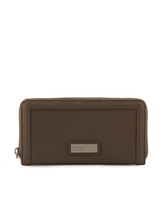other: (14, 93, 152, 168)
